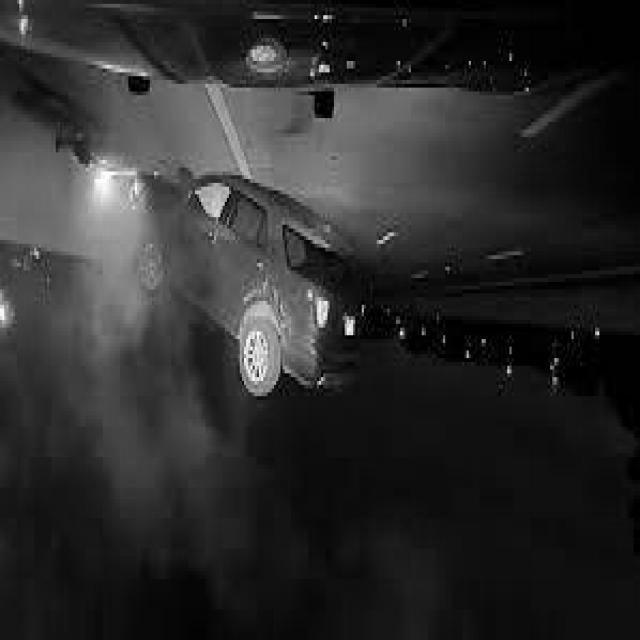severe: (121, 170, 376, 413)
